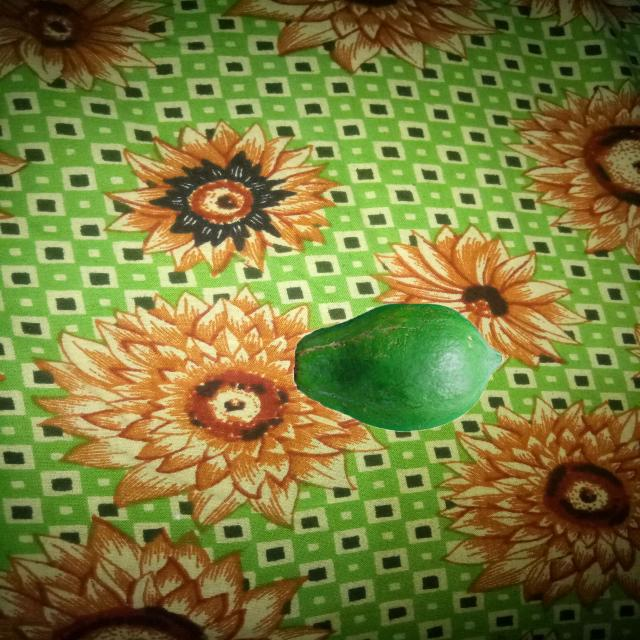Pepaya unrippen: (281, 295, 506, 433)
